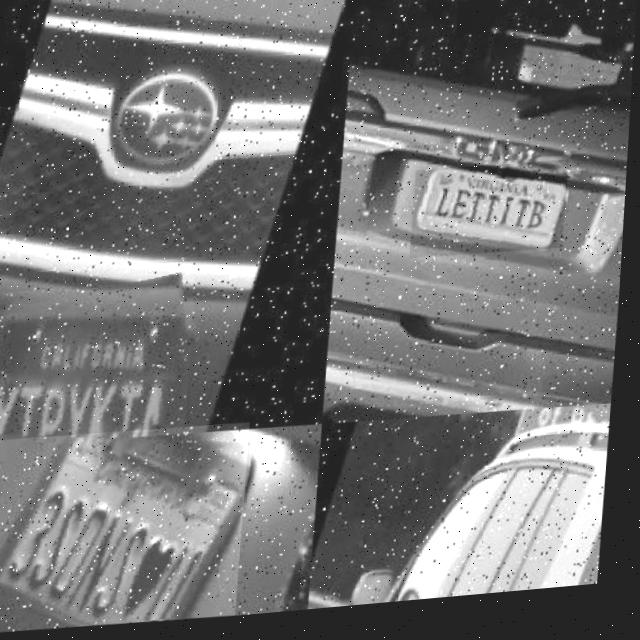LicensePlate: (0, 422, 254, 639), (0, 278, 199, 458), (415, 178, 569, 259)
